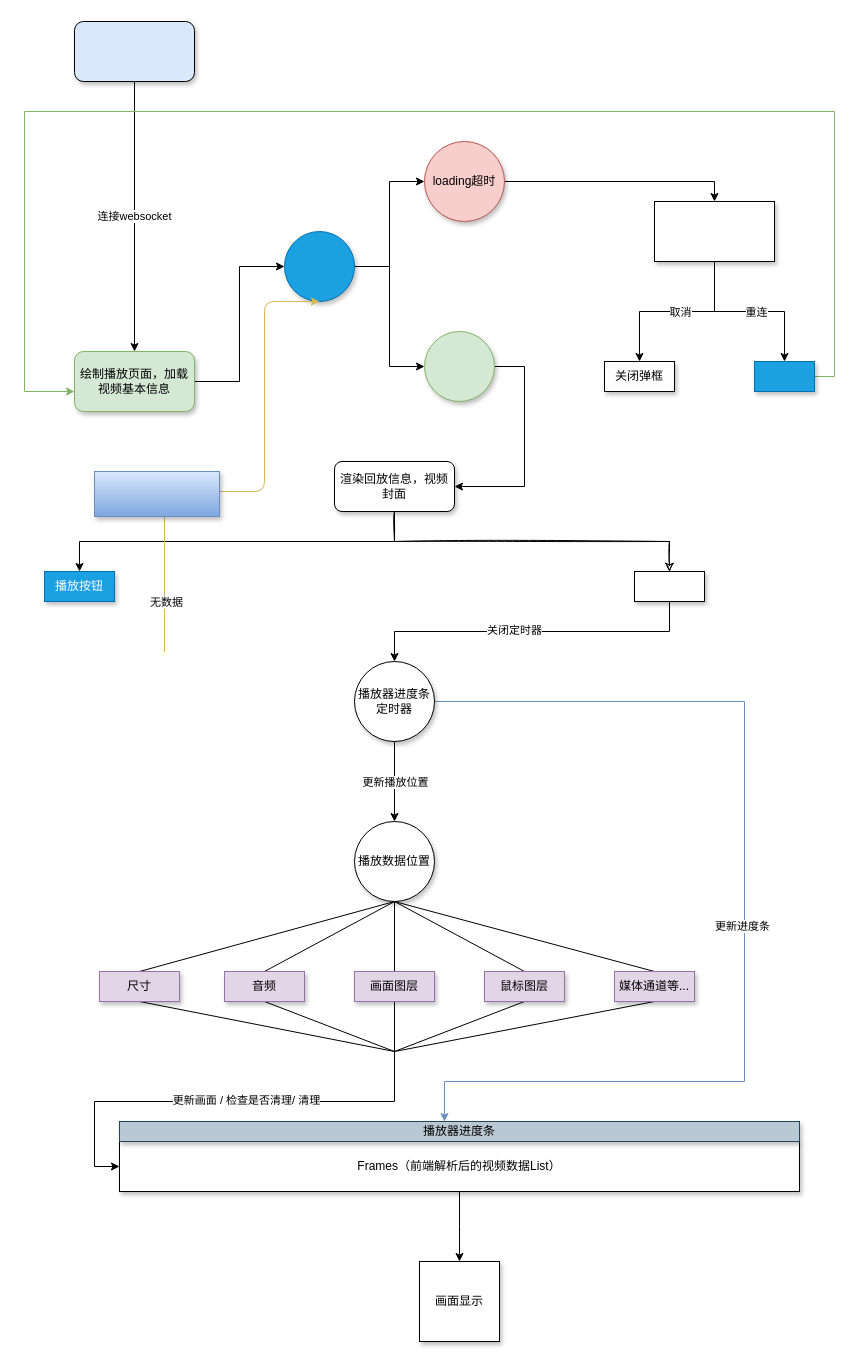
This 860x1366 diagram has some shape labels left out. The centre of each missing label's shape, as x and y in pixels:
loading: the point at 320,267
加载完成: the point at 460,367
暂停按钮: the point at 670,587
清空全部Frames: the point at 158,495
进入播放页面: the point at 135,52
重新连接: the point at 785,377
错误弹框: the point at 715,232
